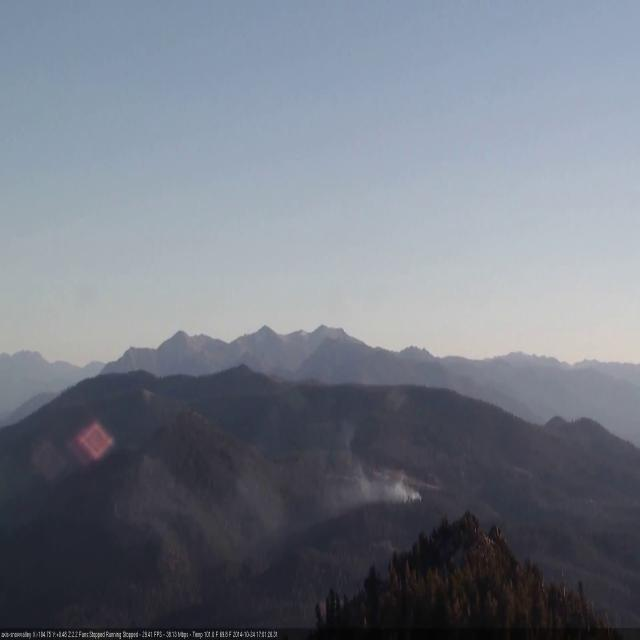smoke: (181, 420, 425, 586)
